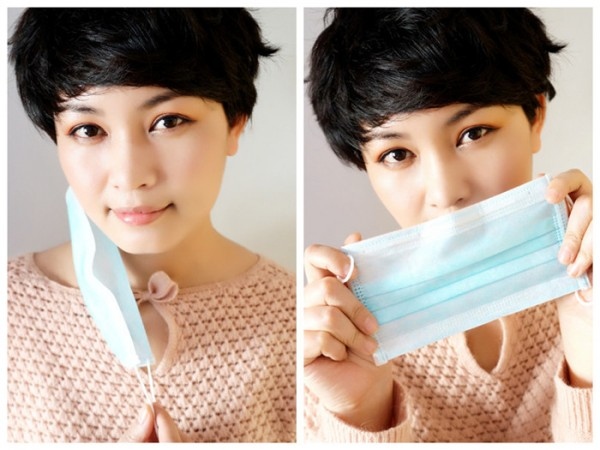face: (59, 69, 223, 250)
face_mask: (367, 81, 533, 257)
